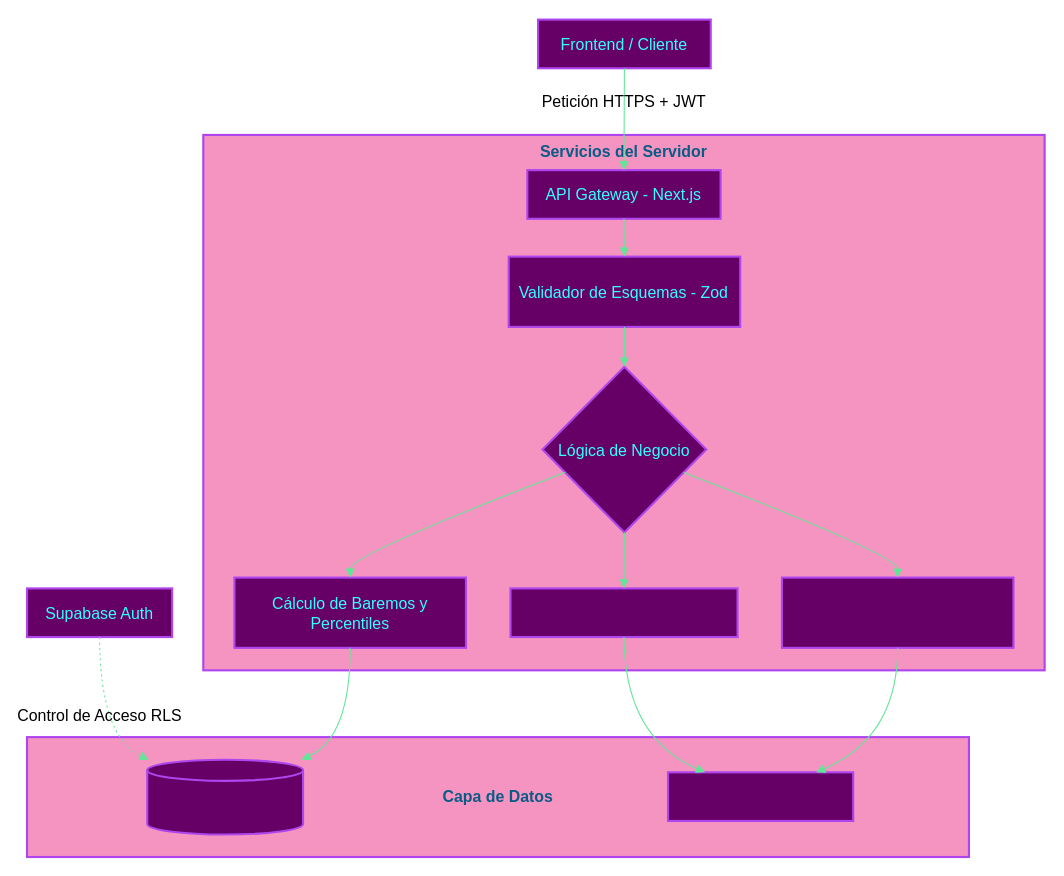
Some shapes in this 1064 by 876 pixel diagram are drawn without their labels. Here are the shapes that lost their labels. From the top down, the centre of each, then its label:
(623,612): Exportador de Datos - XLSX
(897,612): Generador de Reportes - React-PDF
(225,796): PostgreSQL - Supabase
(760,796): Cloud Storage - PDFs
